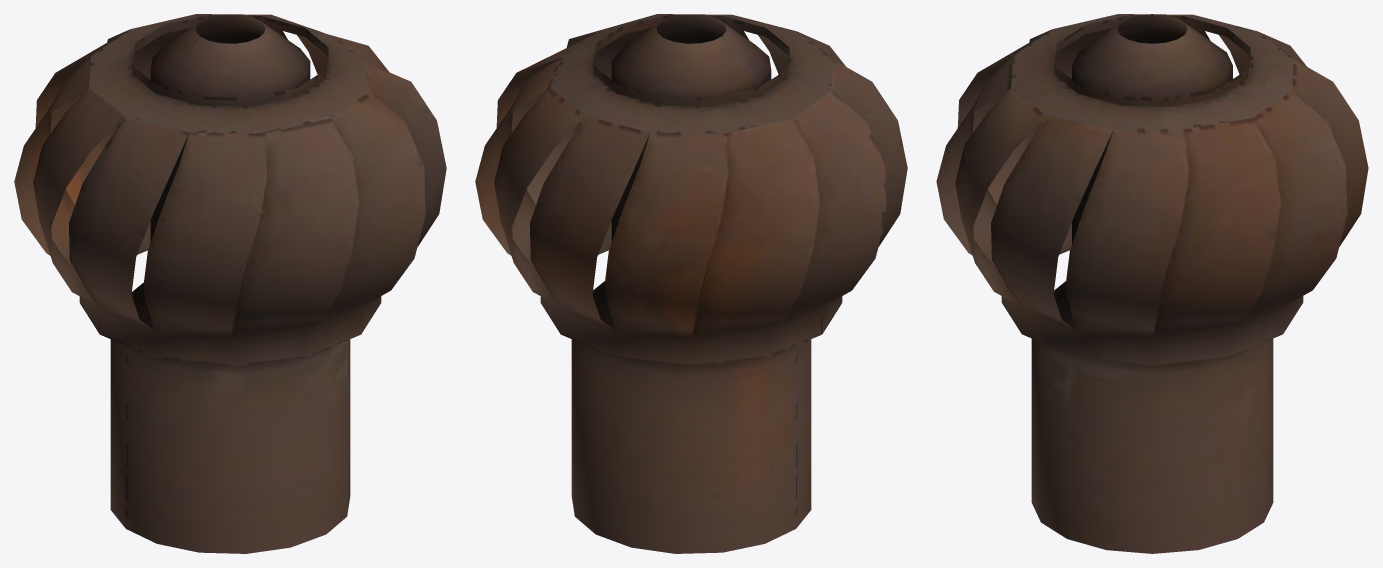
The picture shows the model from 3 angles, left to right: view 1: azimuth 30°, elevation 25°; view 2: azimuth 150°, elevation 25°; view 3: azimuth 270°, elevation 25°; orthographic projection.
Parts seen in each view (by area): view 1: body0_model0_lod0_mesh0; view 2: body0_model0_lod0_mesh0; view 3: body0_model0_lod0_mesh0.
Part boxes in pixels (bbox=[...]): body0_model0_lod0_mesh0: bbox=[14, 14, 446, 553]; body0_model0_lod0_mesh0: bbox=[475, 14, 907, 553]; body0_model0_lod0_mesh0: bbox=[936, 14, 1368, 553].
Bounding box in the file's own units: 42.96 × 52 × 42.96.
Materials: 1 (1 with a texture image).
